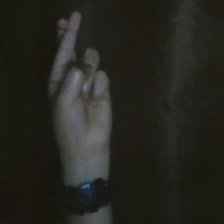R: (42, 8, 128, 163)
